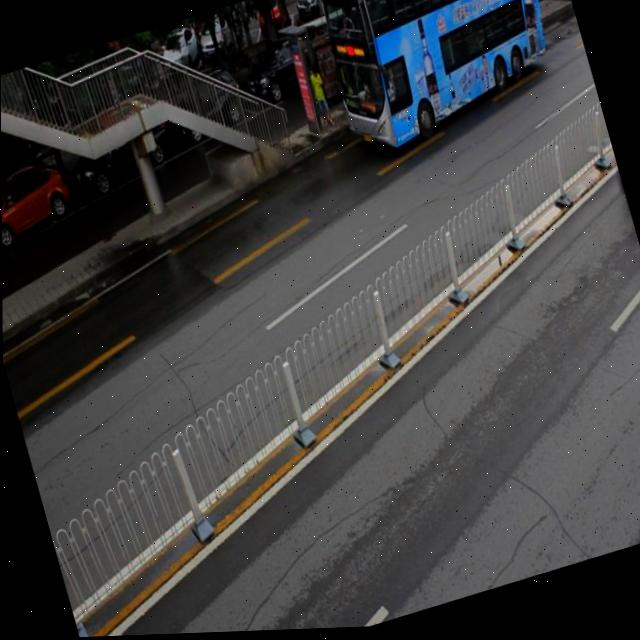car: (64, 111, 180, 204), (236, 31, 335, 119), (1, 157, 78, 256), (164, 68, 249, 149), (500, 0, 559, 20)
van: (306, 0, 572, 167)
